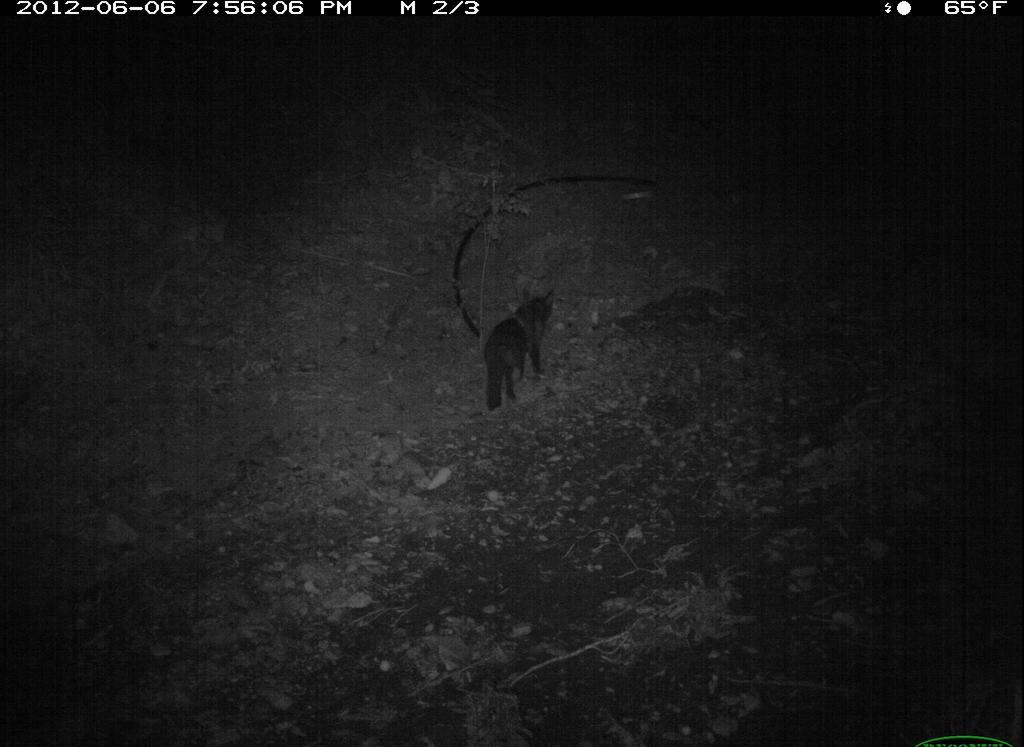cat: (478, 281, 559, 415)
